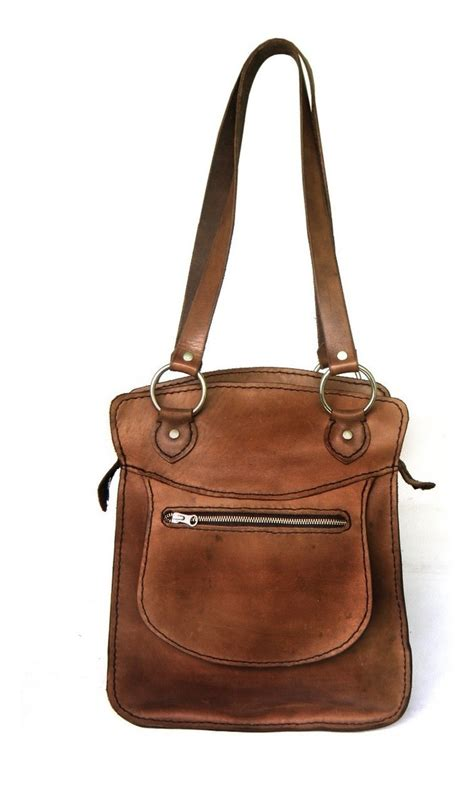cuero: (98, 35, 438, 735)
